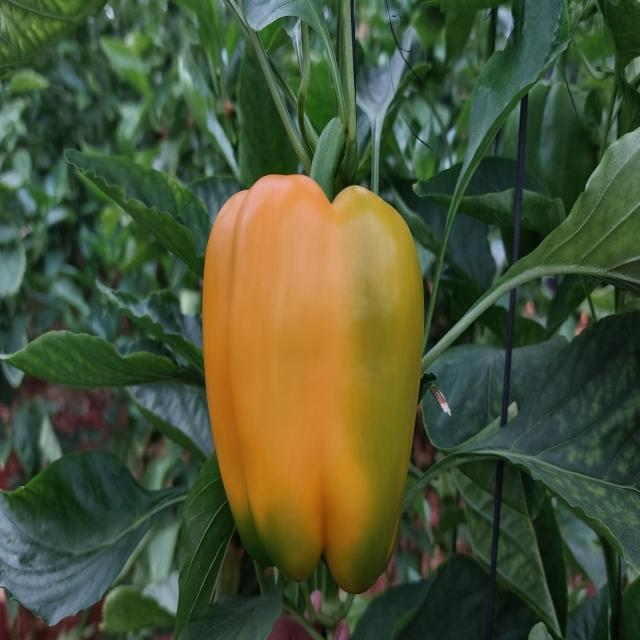GreenishYellow--Can-be-Harvested: (206, 155, 442, 587)
